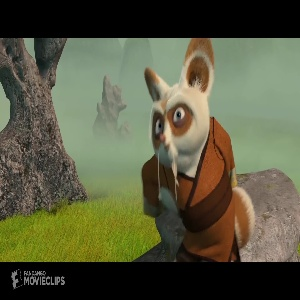shifu: (131, 38, 255, 262)
